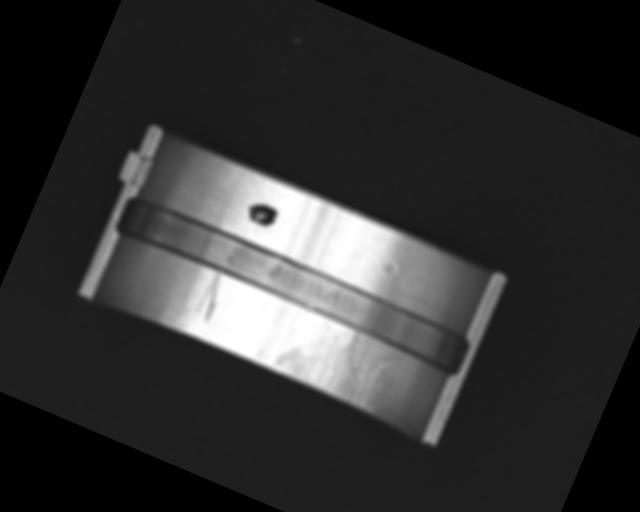blot: (243, 198, 280, 231)
bruise: (378, 257, 401, 283)
gap: (112, 192, 473, 377)
nick: (192, 266, 231, 323)
scratch: (270, 304, 408, 418)
